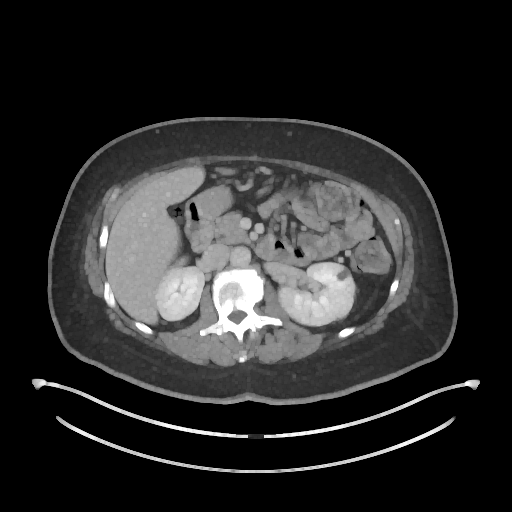Lesion: (333, 264, 352, 283)
